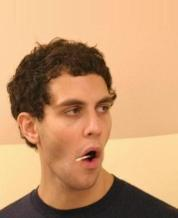face: (60, 95, 114, 170)
